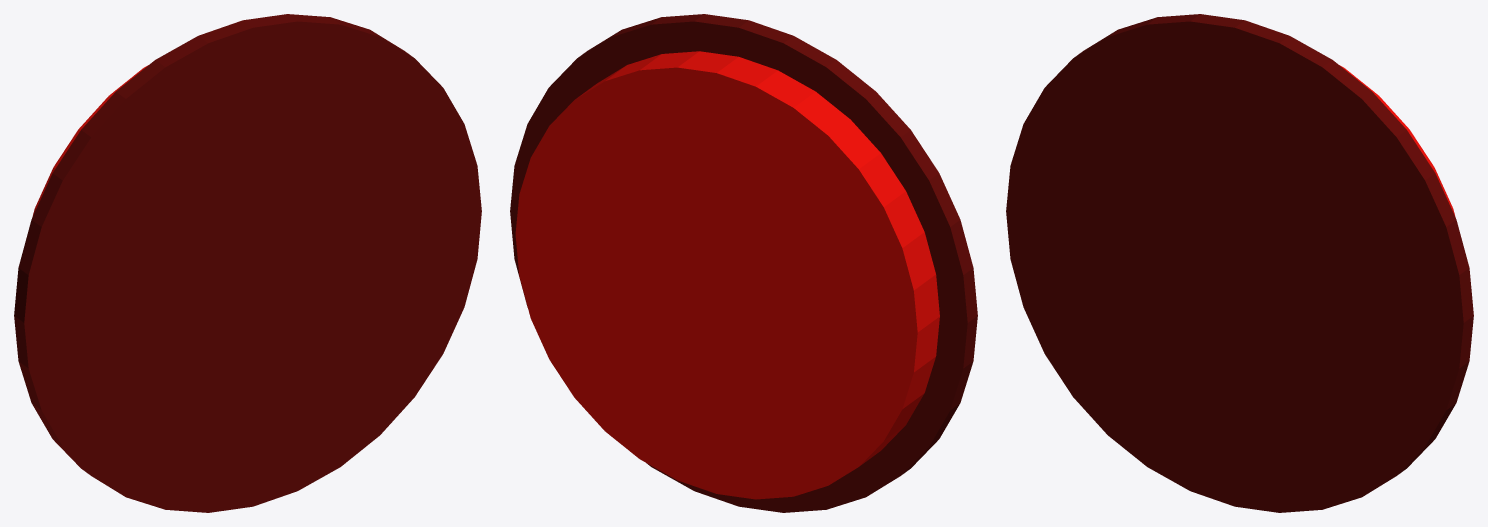
File: RedButton.glb
3 views of the same model, side by side, from view 1: azimuth 30°, elevation 25°; view 2: azimuth 150°, elevation 25°; view 3: azimuth 330°, elevation 25° (orthographic).
Parts seen in each view (by area): view 1: Circle; view 2: Circle; view 3: Circle.
Boxes of the visible parts, <box> form: Circle: <box>14,14,481,512</box>; Circle: <box>510,14,977,512</box>; Circle: <box>1006,14,1473,512</box>.
Bounding box in the file's own units: 2.28 × 2.28 × 0.28.
